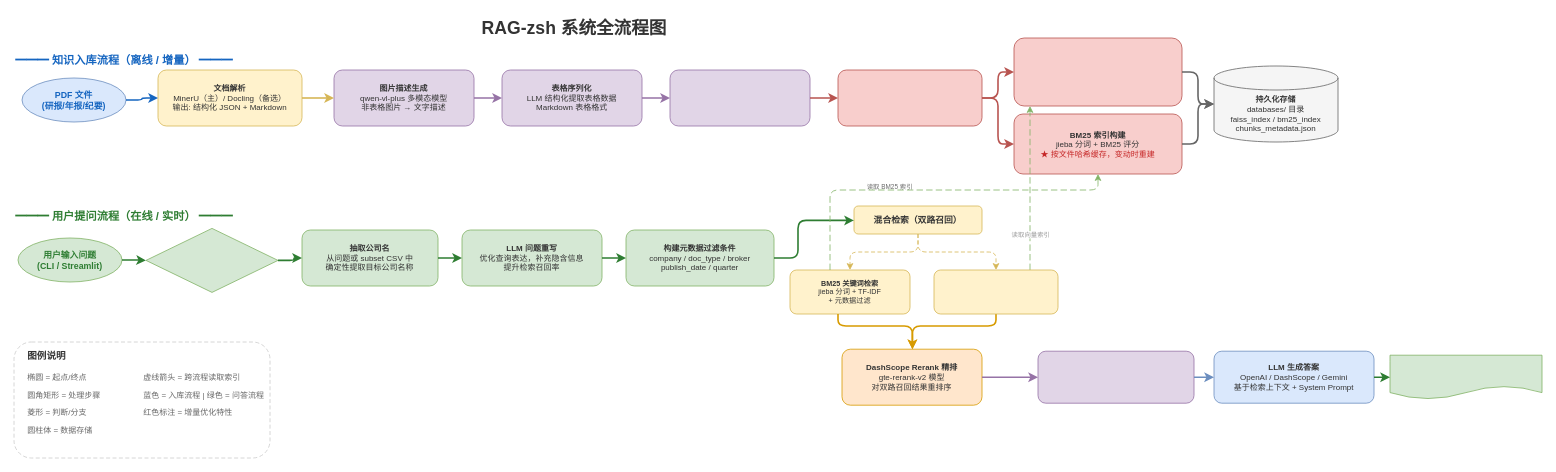
Image size: 1556x472. Some labels were removed from this diagram. The shapes that lost their labels are listed below. From the top down, each one's centre as x and y in pixels, then its label:
point 1097,71: 向量化 & FAISS 索引 DashScope Embedding API ★ 增量追加：仅处理新增/变更文件 faiss.IndexFlatIP.add()
point 739,97: 报告规整合并 按公司名聚合分片内容 统一 Markdown 格式
point 909,97: 文本分块 Token 切分（chunk_size 可配） 表格特殊处理，保留上下文
point 211,260: 问题分类 自动判断问题类型: fact_extraction / analysis / prediction
point 995,291: FAISS 向量语义检索 余弦相似度 Top-K + 元数据过滤
point 1115,376: 组装检索上下文 Top-K 结果拼接为 Prompt 上下文 包含来源页码和引用信息
point 1465,376: 答案输出 结构化答案 + 溯源引用 (answers*.json / Streamlit)
